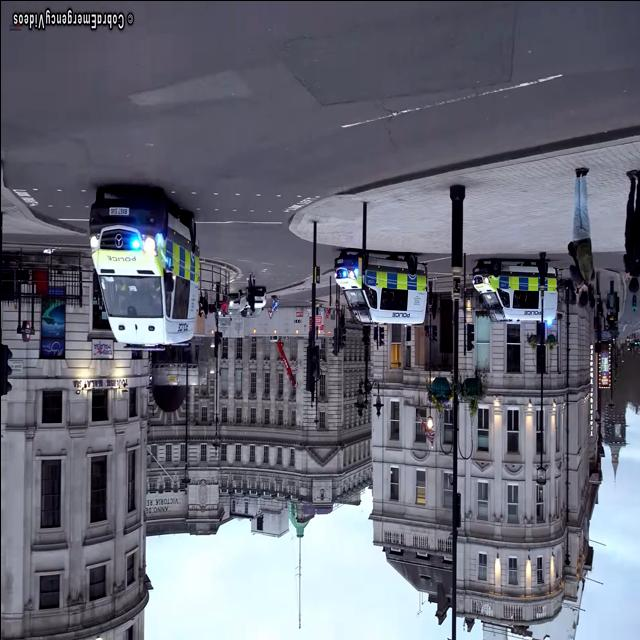emergency-vehicles: (82, 172, 204, 356), (326, 246, 438, 336), (468, 249, 556, 328)
